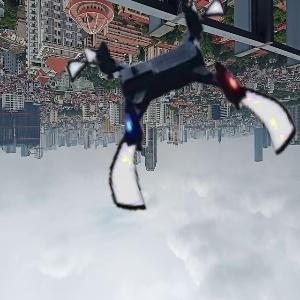drone: (82, 3, 284, 205)
